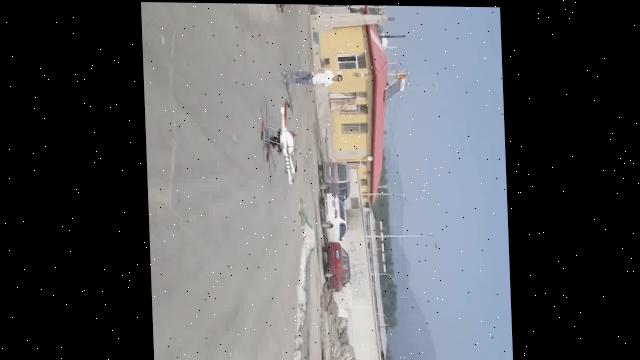drone: (257, 96, 299, 186)
